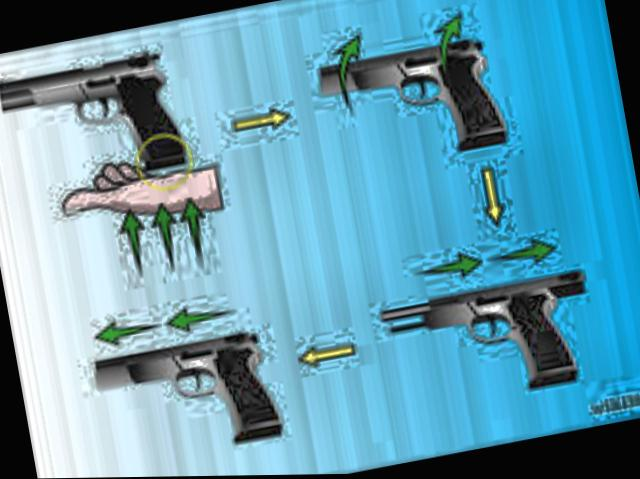pistol: (380, 265, 600, 414), (0, 38, 199, 200), (312, 24, 508, 181), (85, 320, 284, 472)
